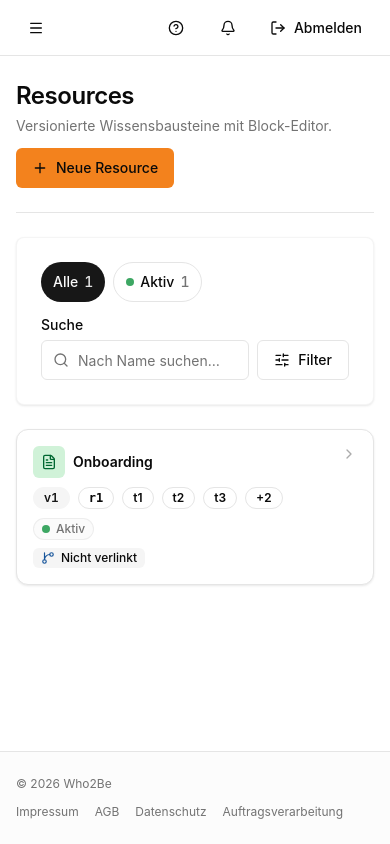
Test case: ResourcesPage — Tags „+n“ in der Listen-Karte (A13) › zeigt drei Tags und „+2“, Klick klappt in der Karte auf
Click the button named "2 weitere anzeigen".
click(264, 498)  # box x1=245 y1=476 x2=283 y2=520
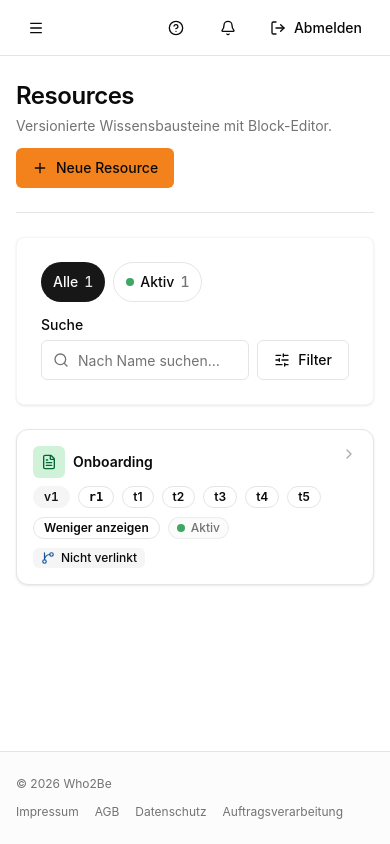
expect the link "Onboarding" is shown: met, box x1=73 y1=453 x2=153 y2=470
expect the button named "2 weitere anzeigen" is expanded: met, box x1=33 y1=506 x2=160 y2=550
